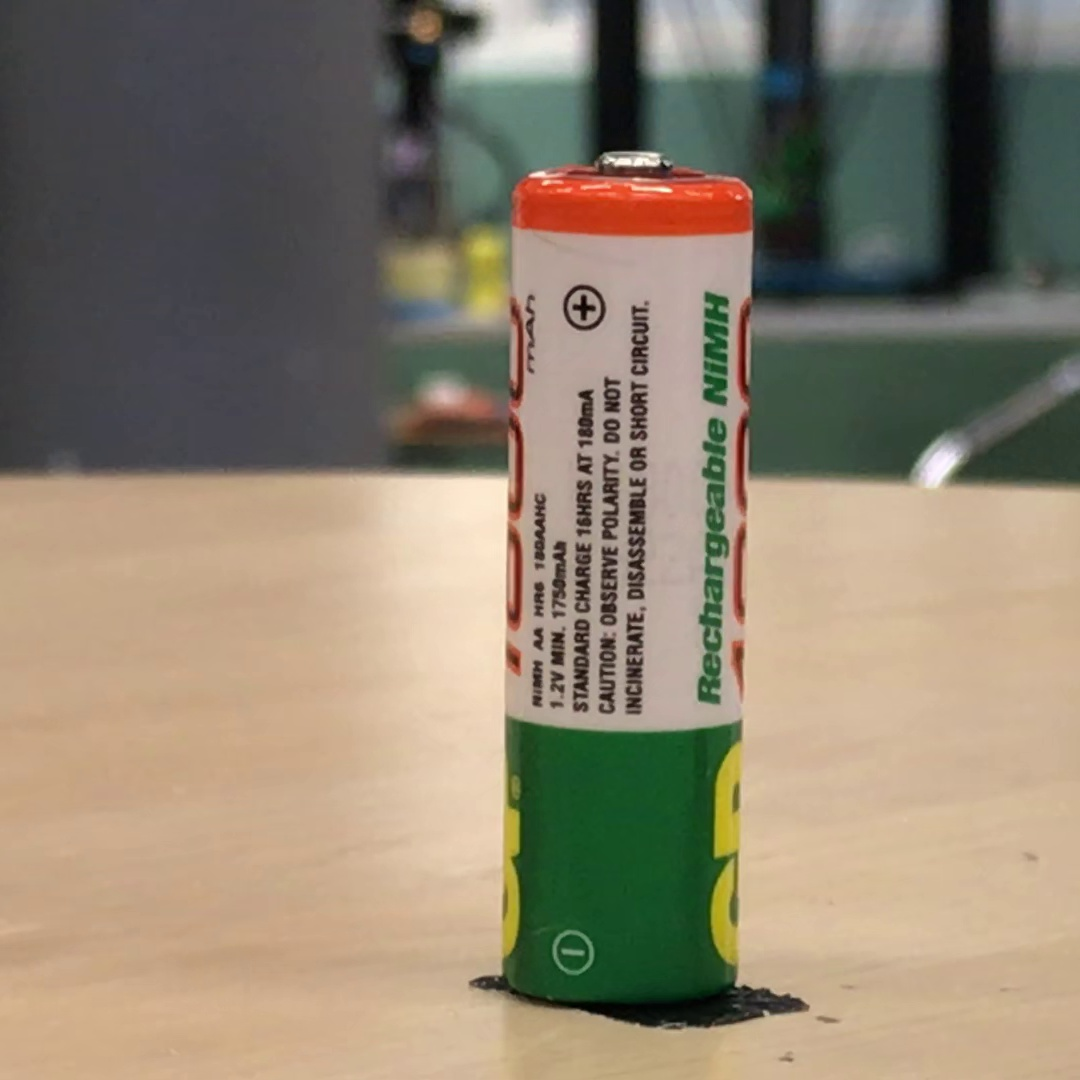keyword: (540, 661, 574, 718)
